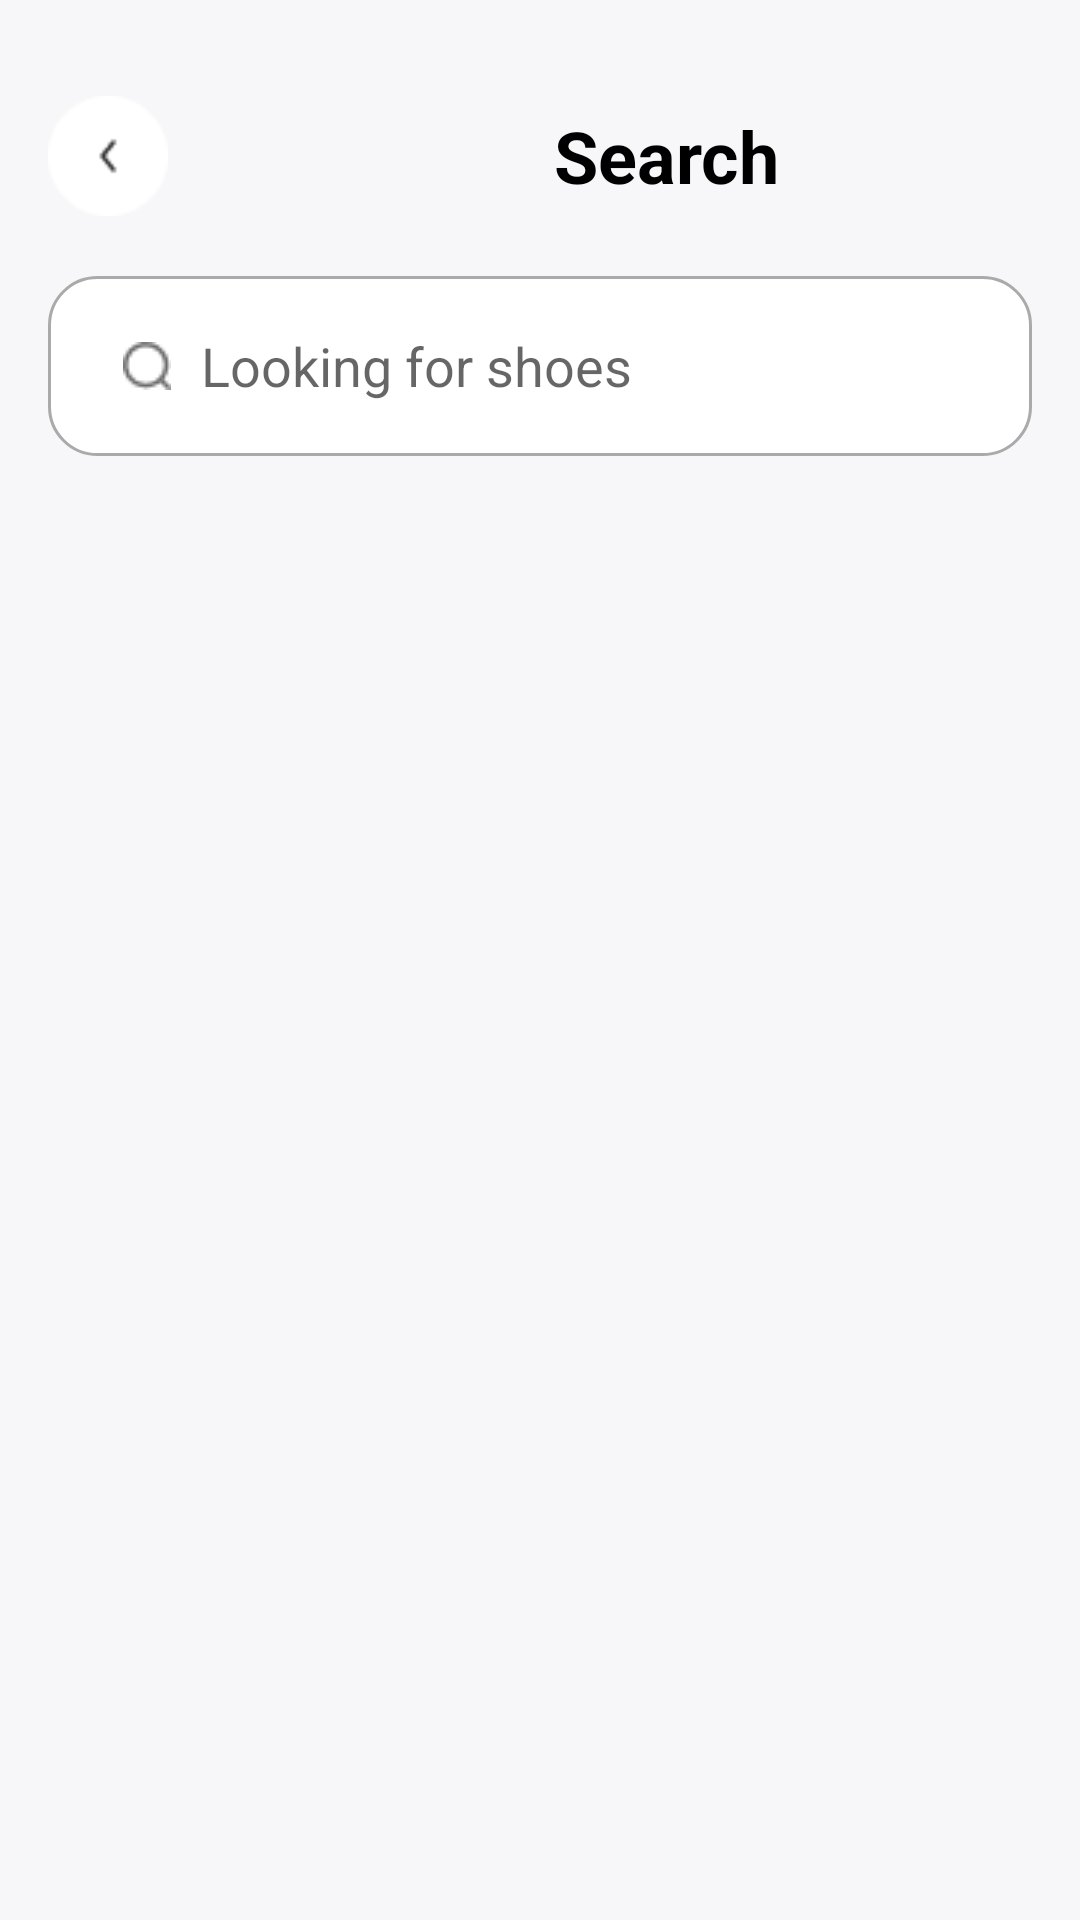

Screen size 1080px×1920px. Icon name, then its box in pixels as detection(x1, y1, x2, y2):
Back: detection(99, 139, 117, 173)
